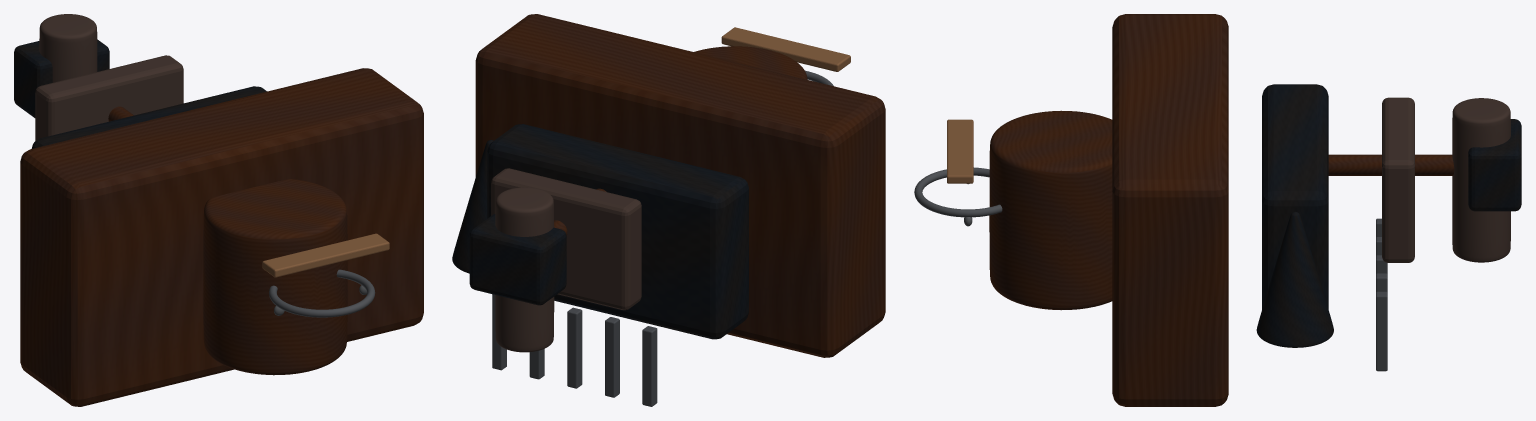
The model's file is smithy.glb.
3 renders of one model, left to right at view 1: azimuth 30°, elevation 25°; view 2: azimuth 150°, elevation 25°; view 3: azimuth 270°, elevation 25°, orthographic.
Parts seen in each view (by area): view 1: Smithy_Base, Smithy_Stump, V7_Smithy_Hood, V7_Smithy_Chimney, smithy_detail_trim, Smithy_HammerHead, Smithy_Anvil, smithy_anvil_band; view 2: Smithy_Base, Smithy_Anvil, V7_Smithy_Hood, Smithy_HammerHead, V7_Smithy_Chimney, smithy_detail_trim, Smithy_Horn, Smithy_Stump, V7_Smithy_ToolRack.002, V7_Smithy_ToolRack, V7_Smithy_ToolRack.001, V7_Smithy_ToolRack.004 (+1 smaller); view 3: Smithy_Base, Smithy_Stump, Smithy_Anvil, V7_Smithy_Chimney, Smithy_Horn, V7_Smithy_Hood, Smithy_HammerHead, Smithy_HammerHandle, smithy_detail_trim, smithy_anvil_band, V7_Smithy_ToolRack.004.
Part boxes in pixels (box(x1,y1,x2,y2)): Smithy_Base: box(20, 68, 423, 406); Smithy_Stump: box(203, 179, 347, 375); V7_Smithy_Hood: box(35, 55, 183, 140); V7_Smithy_Chimney: box(39, 14, 97, 82); smithy_detail_trim: box(262, 233, 389, 277); Smithy_HammerHead: box(14, 39, 109, 117); Smithy_Anvil: box(31, 86, 266, 148); smithy_anvil_band: box(269, 269, 375, 317); Smithy_Base: box(475, 14, 885, 357); Smithy_Anvil: box(487, 124, 748, 339); V7_Smithy_Hood: box(491, 168, 641, 310); Smithy_HammerHead: box(469, 214, 566, 305); V7_Smithy_Chimney: box(495, 187, 554, 352); smithy_detail_trim: box(721, 27, 850, 71); Smithy_Horn: box(452, 140, 493, 273); Smithy_Stump: box(694, 46, 807, 79); V7_Smithy_ToolRack.002: box(567, 307, 582, 388); V7_Smithy_ToolRack: box(642, 326, 657, 406); V7_Smithy_ToolRack.001: box(605, 317, 619, 397); V7_Smithy_ToolRack.004: box(492, 294, 506, 370); Smithy_Base: box(1112, 14, 1228, 406); Smithy_Stump: box(989, 110, 1112, 310); Smithy_Anvil: box(1262, 84, 1328, 309); V7_Smithy_Chimney: box(1452, 98, 1510, 262); Smithy_Horn: box(1256, 211, 1333, 347); V7_Smithy_Hood: box(1382, 97, 1414, 262); Smithy_HammerHead: box(1468, 119, 1521, 211); Smithy_HammerHandle: box(1328, 154, 1454, 175); smithy_detail_trim: box(947, 119, 973, 183); smithy_anvil_band: box(914, 167, 1002, 217); V7_Smithy_ToolRack.004: box(1376, 291, 1387, 371).
Bounding box in the file's own units: 2.5 × 1.56 × 3.65.
9 materials, 3 textured.
